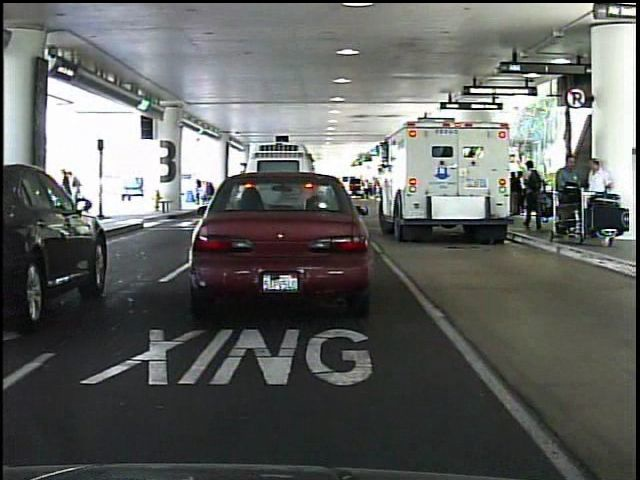person: (63, 167, 85, 224), (55, 168, 76, 225)
